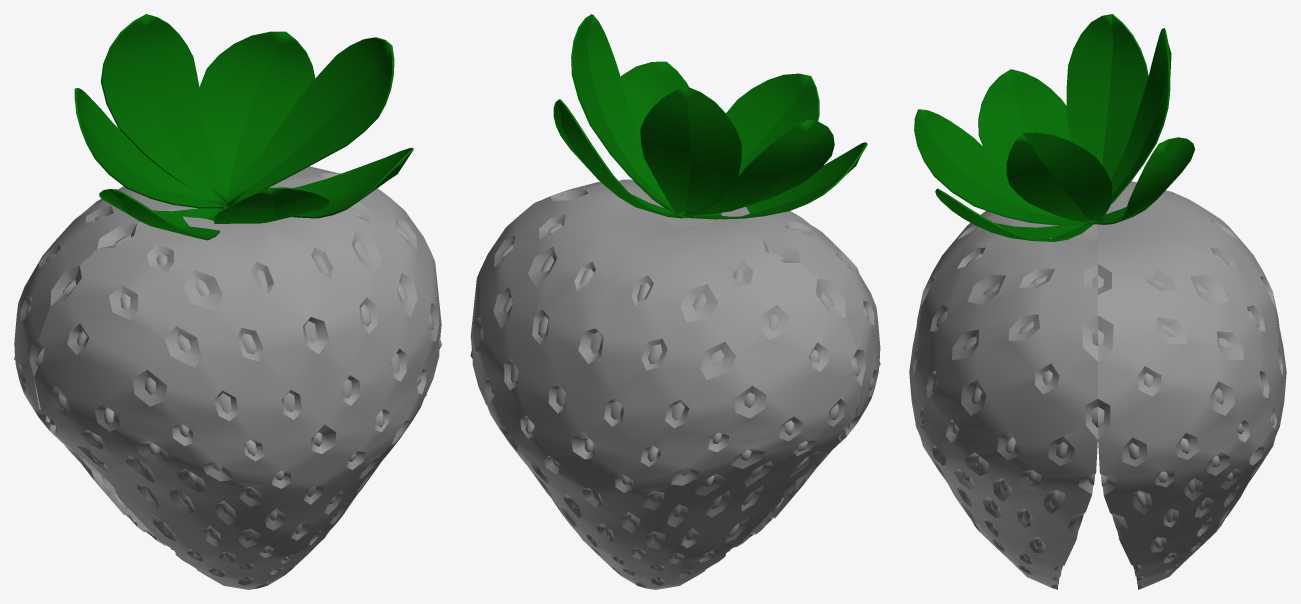
Rendered from mFraise3.FBX.
3 views of the same model, side by side, from view 1: azimuth 30°, elevation 25°; view 2: azimuth 150°, elevation 25°; view 3: azimuth 270°, elevation 25° (orthographic). The views are drawn at different scales.
Visible parts, largest first — view 1: Fraise_Negative, Feuille_fraise_06; view 2: Fraise_Negative, Feuille_fraise_06; view 3: Fraise_Negative, Feuille_fraise_06.
Part boxes in pixels (x1,y1,x2,y2): Fraise_Negative: (14, 166, 441, 589); Feuille_fraise_06: (74, 14, 413, 240); Fraise_Negative: (470, 179, 880, 589); Feuille_fraise_06: (553, 14, 867, 219); Fraise_Negative: (909, 181, 1286, 589); Feuille_fraise_06: (914, 14, 1194, 241).
Size of the model in its own units: 1.39 by 1.87 by 1.2.
